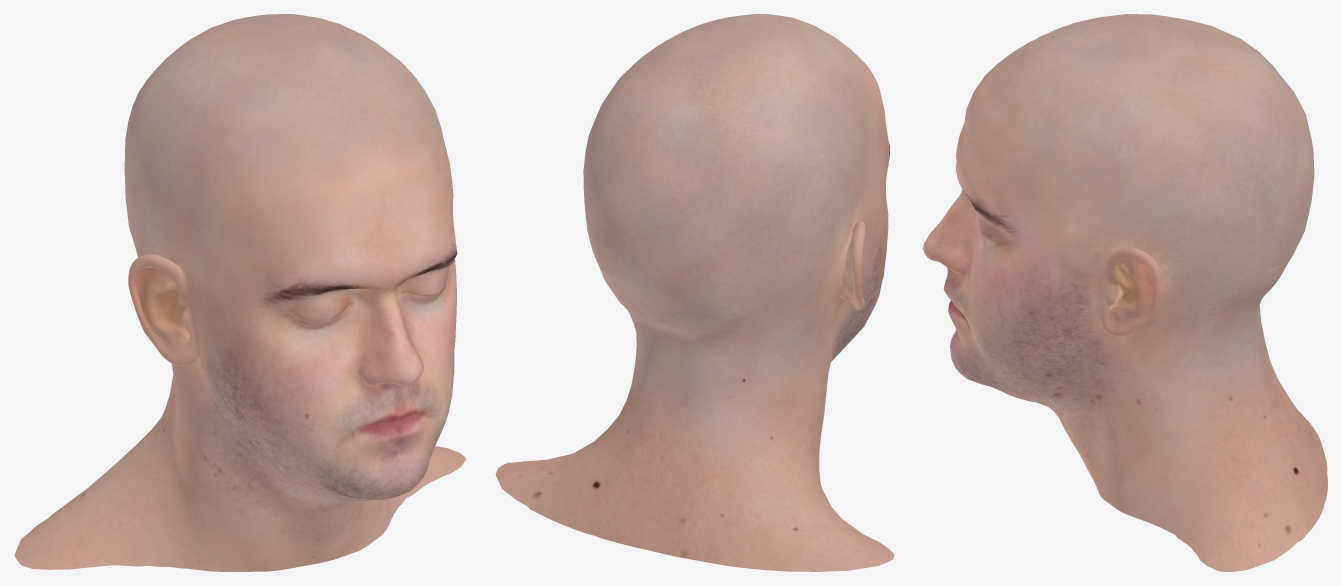
File: projection-head.glb
3 views of the same model, side by side, from view 1: azimuth 30°, elevation 25°; view 2: azimuth 150°, elevation 25°; view 3: azimuth 270°, elevation 25° (orthographic). The views are drawn at different scales.
Parts seen in each view (by area): view 1: Head_Scan; view 2: Head_Scan; view 3: Head_Scan.
Part boxes in pixels (box(x1,y1,x2,y2)): Head_Scan: box(14, 14, 466, 571); Head_Scan: box(495, 14, 894, 571); Head_Scan: box(923, 14, 1327, 571).
Bounding box in the file's own units: 0.1864 × 0.205 × 0.1669.
Materials: 1 (1 with a texture image).
